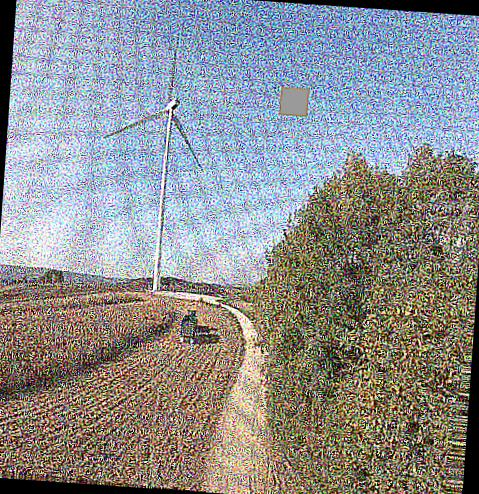wind turbine: (99, 32, 205, 295)
